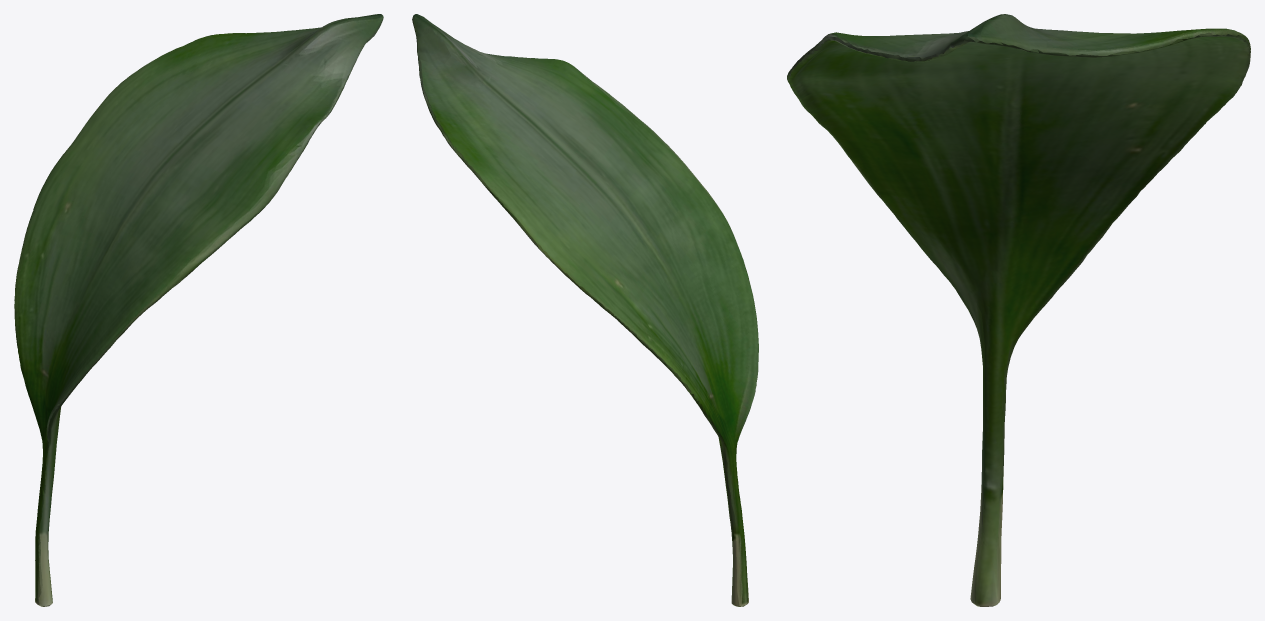
File: lux-aspidistra.glb
3 views of the same model, side by side, from view 1: azimuth 30°, elevation 25°; view 2: azimuth 150°, elevation 25°; view 3: azimuth 270°, elevation 25° (orthographic). The views are drawn at different scales.
Visible parts, largest first — view 1: geometry_0; view 2: geometry_0; view 3: geometry_0.
Part boxes in pixels (bbox=[...]): geometry_0: bbox=[14, 14, 383, 606]; geometry_0: bbox=[412, 14, 758, 606]; geometry_0: bbox=[787, 14, 1250, 606].
Size of the model in its own units: 0.35 by 0.4998 by 0.2526.
Materials: 1 (1 with a texture image).
